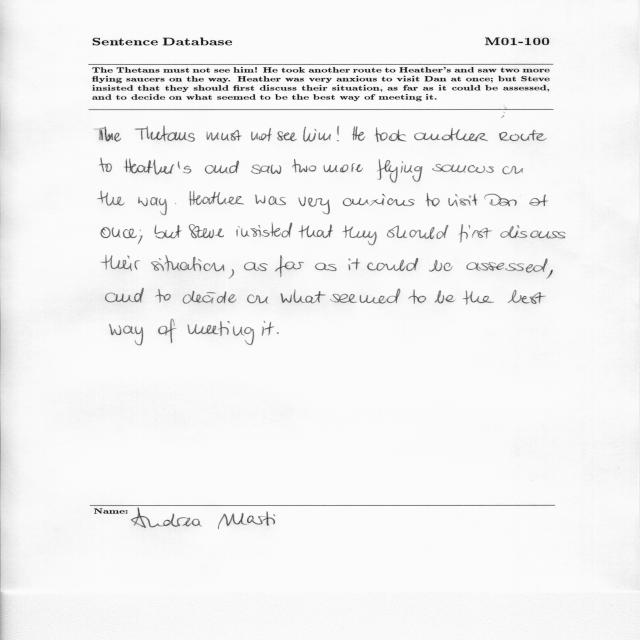word: (188, 321, 255, 345), (151, 255, 224, 272), (466, 258, 548, 273), (124, 159, 192, 175), (377, 159, 422, 183), (331, 289, 401, 304), (134, 126, 195, 142), (414, 128, 488, 141), (501, 225, 566, 239), (343, 194, 415, 206), (387, 225, 448, 239), (236, 223, 292, 238), (189, 191, 244, 206), (110, 324, 144, 345), (342, 226, 377, 246), (183, 291, 236, 304), (367, 258, 418, 271), (459, 224, 493, 243), (275, 256, 304, 278), (281, 290, 326, 304), (101, 255, 140, 271), (105, 288, 144, 303), (432, 164, 494, 173), (298, 197, 330, 214), (508, 290, 546, 304), (499, 130, 547, 141), (138, 197, 167, 215), (189, 224, 224, 238), (375, 127, 407, 142), (205, 160, 239, 174), (158, 319, 177, 343), (298, 225, 333, 238), (463, 291, 494, 305), (303, 127, 331, 142), (98, 191, 125, 206), (206, 130, 242, 141), (484, 194, 517, 206), (101, 227, 137, 238), (154, 225, 182, 239), (448, 194, 478, 207), (323, 164, 363, 173), (255, 195, 286, 206), (292, 159, 316, 173), (99, 127, 121, 142), (251, 164, 281, 174), (251, 128, 272, 141), (408, 289, 426, 304), (435, 291, 455, 304), (429, 260, 452, 271), (530, 195, 549, 207), (155, 289, 171, 303), (244, 262, 268, 271), (425, 193, 440, 207), (277, 131, 297, 141), (352, 126, 365, 141), (247, 295, 268, 304), (99, 158, 112, 172), (262, 321, 274, 336), (315, 263, 337, 271), (502, 166, 523, 174), (349, 258, 361, 271), (546, 270, 553, 279), (138, 230, 142, 244), (229, 269, 234, 279), (337, 126, 339, 141), (277, 332, 279, 334), (175, 203, 176, 204)
